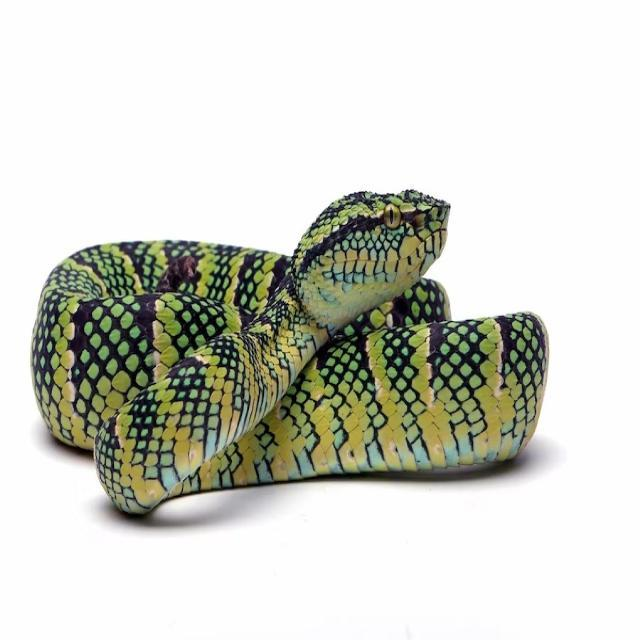Snake: (16, 172, 560, 536)
